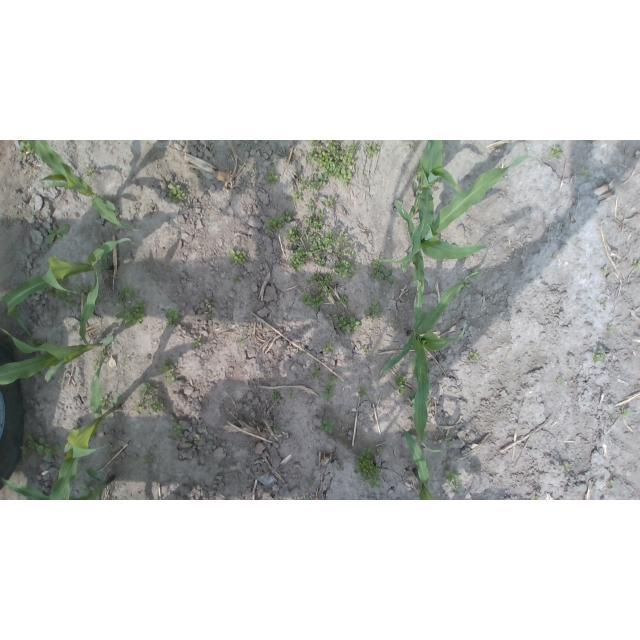Maize: (380, 269, 489, 452), (374, 155, 531, 266), (0, 267, 114, 387), (3, 239, 134, 334), (28, 141, 153, 234), (48, 343, 121, 500), (404, 140, 462, 226), (2, 468, 115, 500), (402, 426, 435, 500)
Weeds: (300, 141, 357, 194), (283, 227, 335, 273), (35, 279, 93, 308), (112, 284, 148, 328), (353, 446, 381, 489), (22, 433, 61, 459), (139, 382, 166, 413), (371, 255, 396, 285), (306, 272, 335, 295), (332, 259, 361, 279), (299, 291, 325, 313), (265, 210, 291, 230), (332, 316, 361, 333), (45, 224, 69, 244), (303, 210, 326, 230), (79, 479, 103, 497), (160, 358, 177, 383), (366, 301, 383, 324), (167, 184, 187, 202), (445, 470, 462, 491), (166, 308, 182, 328), (228, 248, 247, 264), (319, 419, 337, 435), (395, 372, 408, 394), (365, 142, 380, 161), (335, 248, 358, 259), (335, 232, 351, 247), (289, 188, 304, 204), (265, 169, 280, 185), (548, 145, 564, 160), (19, 140, 33, 157), (592, 348, 609, 362), (170, 421, 183, 437), (322, 387, 336, 401), (13, 301, 24, 317), (26, 337, 42, 348), (305, 199, 316, 213), (322, 341, 334, 353), (336, 295, 349, 306), (85, 165, 96, 178), (326, 377, 339, 388), (311, 368, 322, 380), (468, 269, 480, 280), (458, 280, 471, 290), (136, 455, 152, 463), (407, 391, 416, 405), (468, 351, 480, 361), (100, 395, 109, 408), (321, 196, 335, 204), (133, 404, 144, 414), (193, 337, 204, 347), (205, 299, 216, 309), (401, 263, 412, 273), (415, 164, 421, 181), (271, 393, 281, 403), (621, 409, 630, 420), (99, 349, 106, 362), (288, 392, 297, 401), (204, 312, 216, 318), (445, 439, 453, 448), (359, 388, 367, 397), (236, 340, 245, 348), (600, 299, 607, 309), (363, 345, 369, 356), (92, 362, 100, 370), (581, 169, 589, 177), (273, 424, 280, 433), (633, 260, 640, 269), (299, 230, 307, 237), (608, 480, 616, 487), (607, 327, 614, 335), (120, 358, 128, 365), (232, 275, 241, 281), (557, 377, 563, 385), (601, 267, 607, 275), (426, 396, 431, 404), (531, 496, 541, 500), (194, 438, 200, 444), (307, 484, 314, 489), (564, 464, 569, 469), (338, 464, 344, 468), (305, 496, 311, 500)
